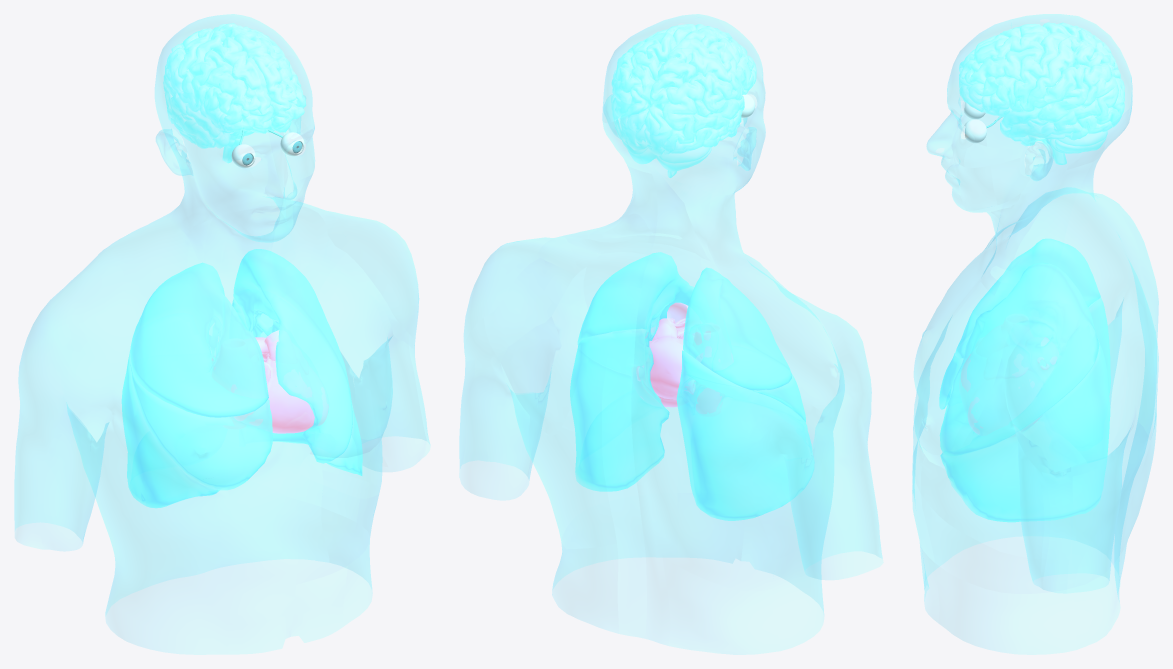
The model's file is ares_upper_body_hologram.glb.
The picture shows the model from 3 angles, left to right: view 1: azimuth 30°, elevation 25°; view 2: azimuth 150°, elevation 25°; view 3: azimuth 270°, elevation 25°; orthographic projection. The views are drawn at different scales.
Visible parts, largest first — view 1: BODY_SURFACE, LUNG_RIGHT, LUNG_LEFT, BRAIN, HEART; view 2: BODY_SURFACE, LUNG_RIGHT, LUNG_LEFT, BRAIN, HEART; view 3: BODY_SURFACE, LUNG_LEFT, BRAIN, LUNG_RIGHT, HEART, EYE_LEFT.
Boxes of the visible parts, x1=… form: BODY_SURFACE: x1=14, y1=14, x2=430, y2=654; LUNG_RIGHT: x1=121, y1=262, x2=272, y2=508; LUNG_LEFT: x1=232, y1=249, x2=362, y2=475; BRAIN: x1=163, y1=23, x2=306, y2=163; HEART: x1=212, y1=330, x2=328, y2=433; BODY_SURFACE: x1=459, y1=14, x2=882, y2=654; LUNG_RIGHT: x1=676, y1=267, x2=814, y2=520; LUNG_LEFT: x1=570, y1=252, x2=694, y2=491; BRAIN: x1=611, y1=24, x2=756, y2=177; HEART: x1=636, y1=302, x2=732, y2=413; BODY_SURFACE: x1=912, y1=14, x2=1158, y2=654; LUNG_LEFT: x1=939, y1=262, x2=1110, y2=522; BRAIN: x1=959, y1=22, x2=1124, y2=164; LUNG_RIGHT: x1=939, y1=238, x2=1110, y2=409; HEART: x1=961, y1=337, x2=1057, y2=434; EYE_LEFT: x1=962, y1=119, x2=986, y2=143.
Bounding box in the file's own units: 0.5139 × 0.6892 × 0.2682.
